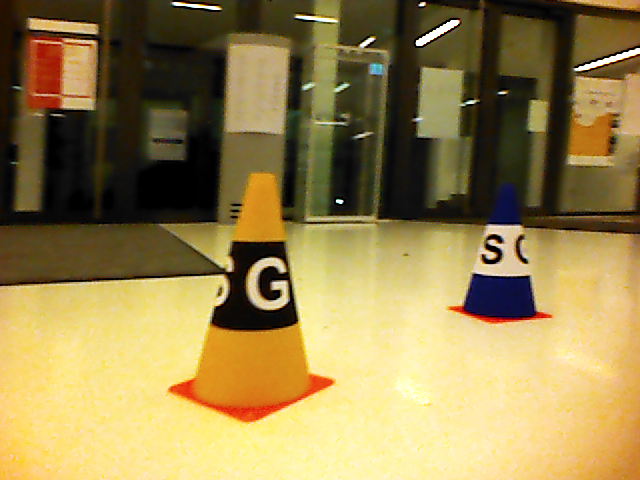bluecone: (464, 182, 537, 319)
yellowcone: (190, 172, 311, 409)
